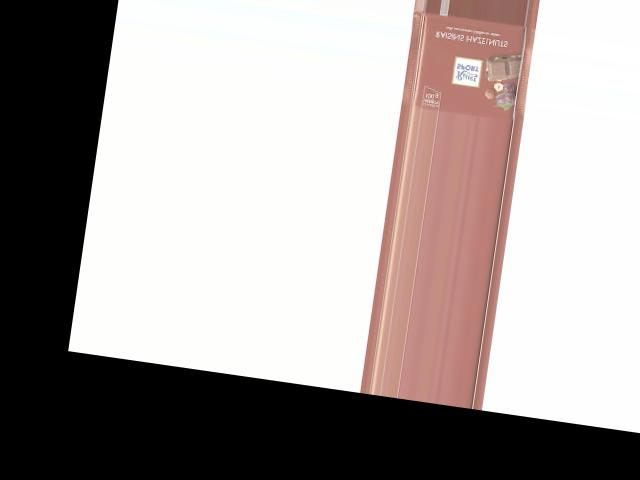chocolate: (400, 9, 538, 123)
